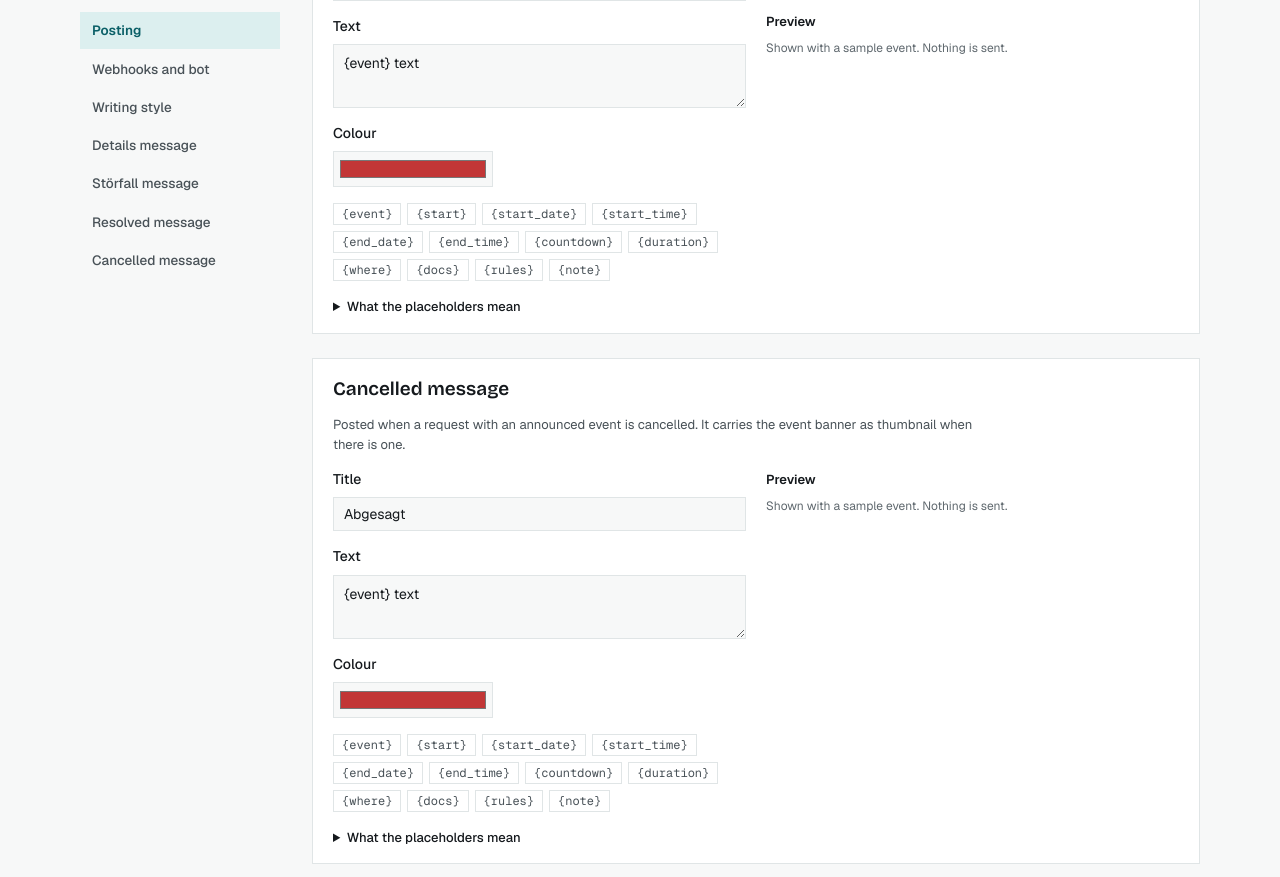
Test: EventSettingsView › updates the preview when the title is typed
The image size is (1280, 877).
(page scrolled)
Expected: the heading "Cancelled message" is shown, [333,375,509,403]
Replace the text in the 2nd field labelled "Title" with "Event abgesagt!" at (540, 514), box [333,497,746,531]
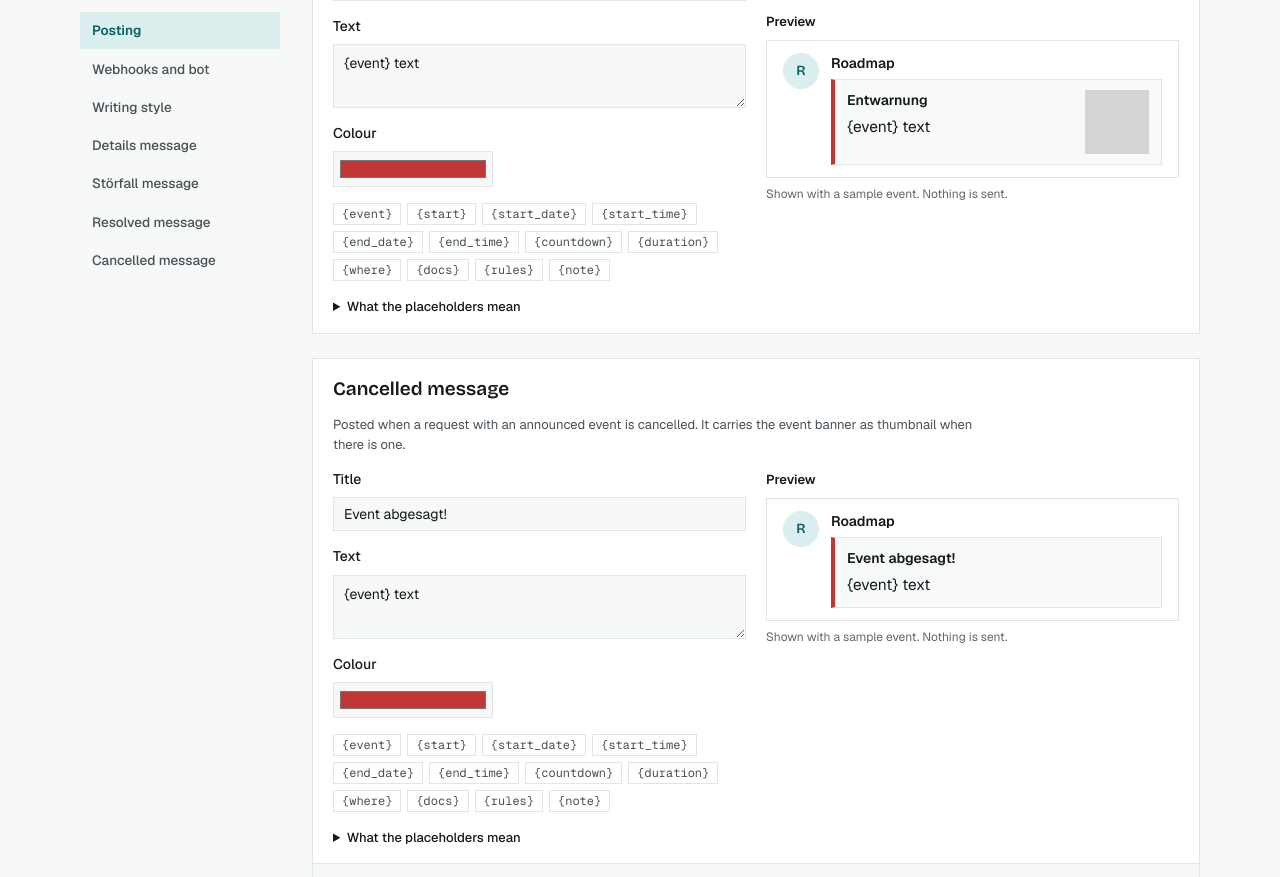
Expected: the text "Event abgesagt!" is shown, [847,549,955,567]
